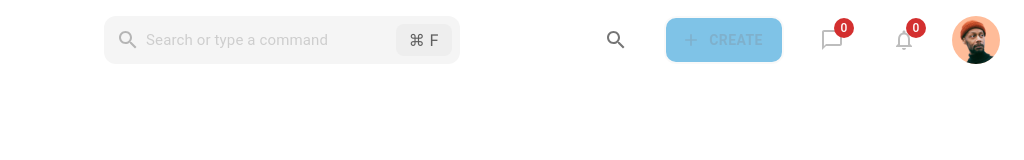
Test: Header Test › click search icon on mobile should show search input popup on mobile
The image size is (1024, 160).
Click the button with test id "Header_SearchInputIcon_Mobile" at coordinates (616, 40), box [592, 16, 640, 64]
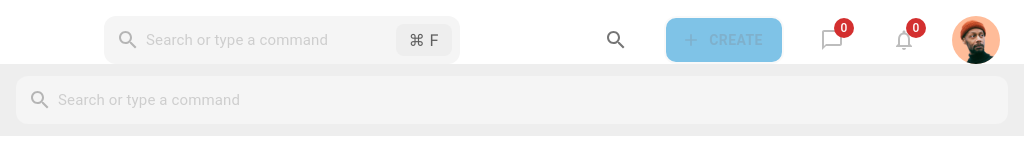
expect the element with test id "Header_SearchInput_Mobile" is shown: met, box [58, 76, 940, 124]
